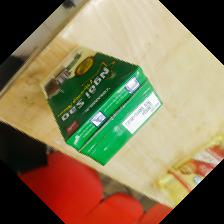NSPN_Hop: (40, 44, 164, 167)
